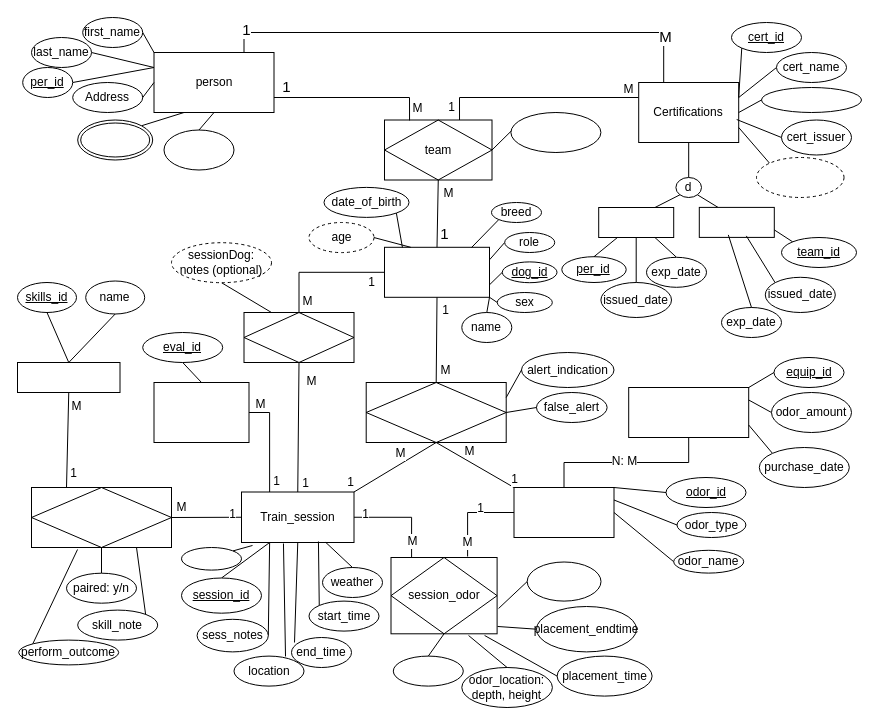
Image size: 879x725. Some labels were removed from this diagram. The shapes that lost their labels are listed below. From the top down, each one's centre as x and y in pixels, then its label:
At (x=811, y=99): "issuer_company".
At (x=115, y=139): "phone_num".
At (x=198, y=149): "role_type".
At (x=555, y=132): "team_id: dog+person".
At (x=800, y=177): "status derived".
At (x=636, y=222): "person_cert".
At (x=736, y=221): "team_cert".
At (x=437, y=271): "Dog".
At (x=298, y=337): "sessionDog: session_id, dog_id".
At (x=68, y=377): "skills".
At (x=201, y=412): "Eval".
At (x=435, y=412): "DogSessionOdor".
At (x=688, y=412): "equipment_inventory".
At (x=101, y=517): "session_skill: skills + train_session".
At (x=563, y=512): "odor".
At (x=211, y=558): "date".
At (x=563, y=581): "ses_od_id".
At (x=427, y=670): "amount_used".
